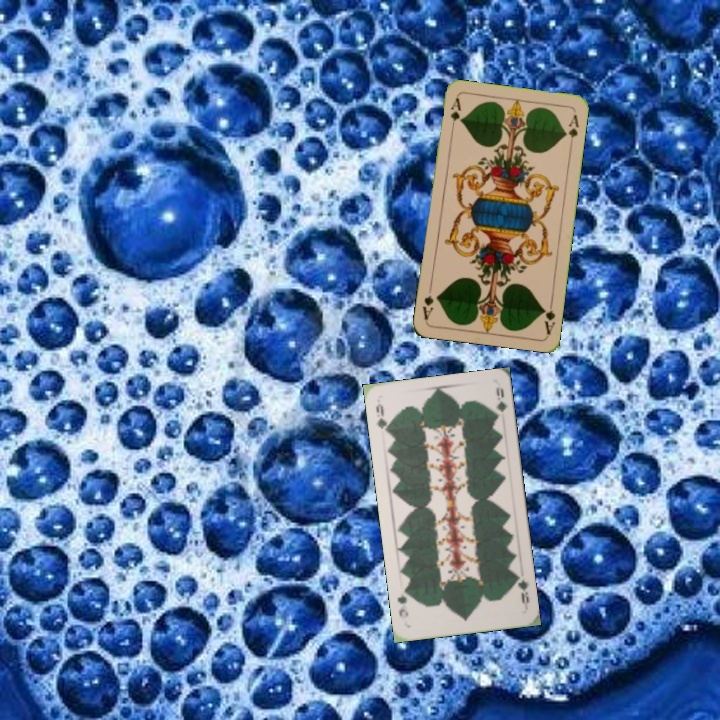G9: (511, 571, 532, 610), (372, 399, 391, 436)
GA: (539, 296, 558, 337), (446, 94, 463, 134)
